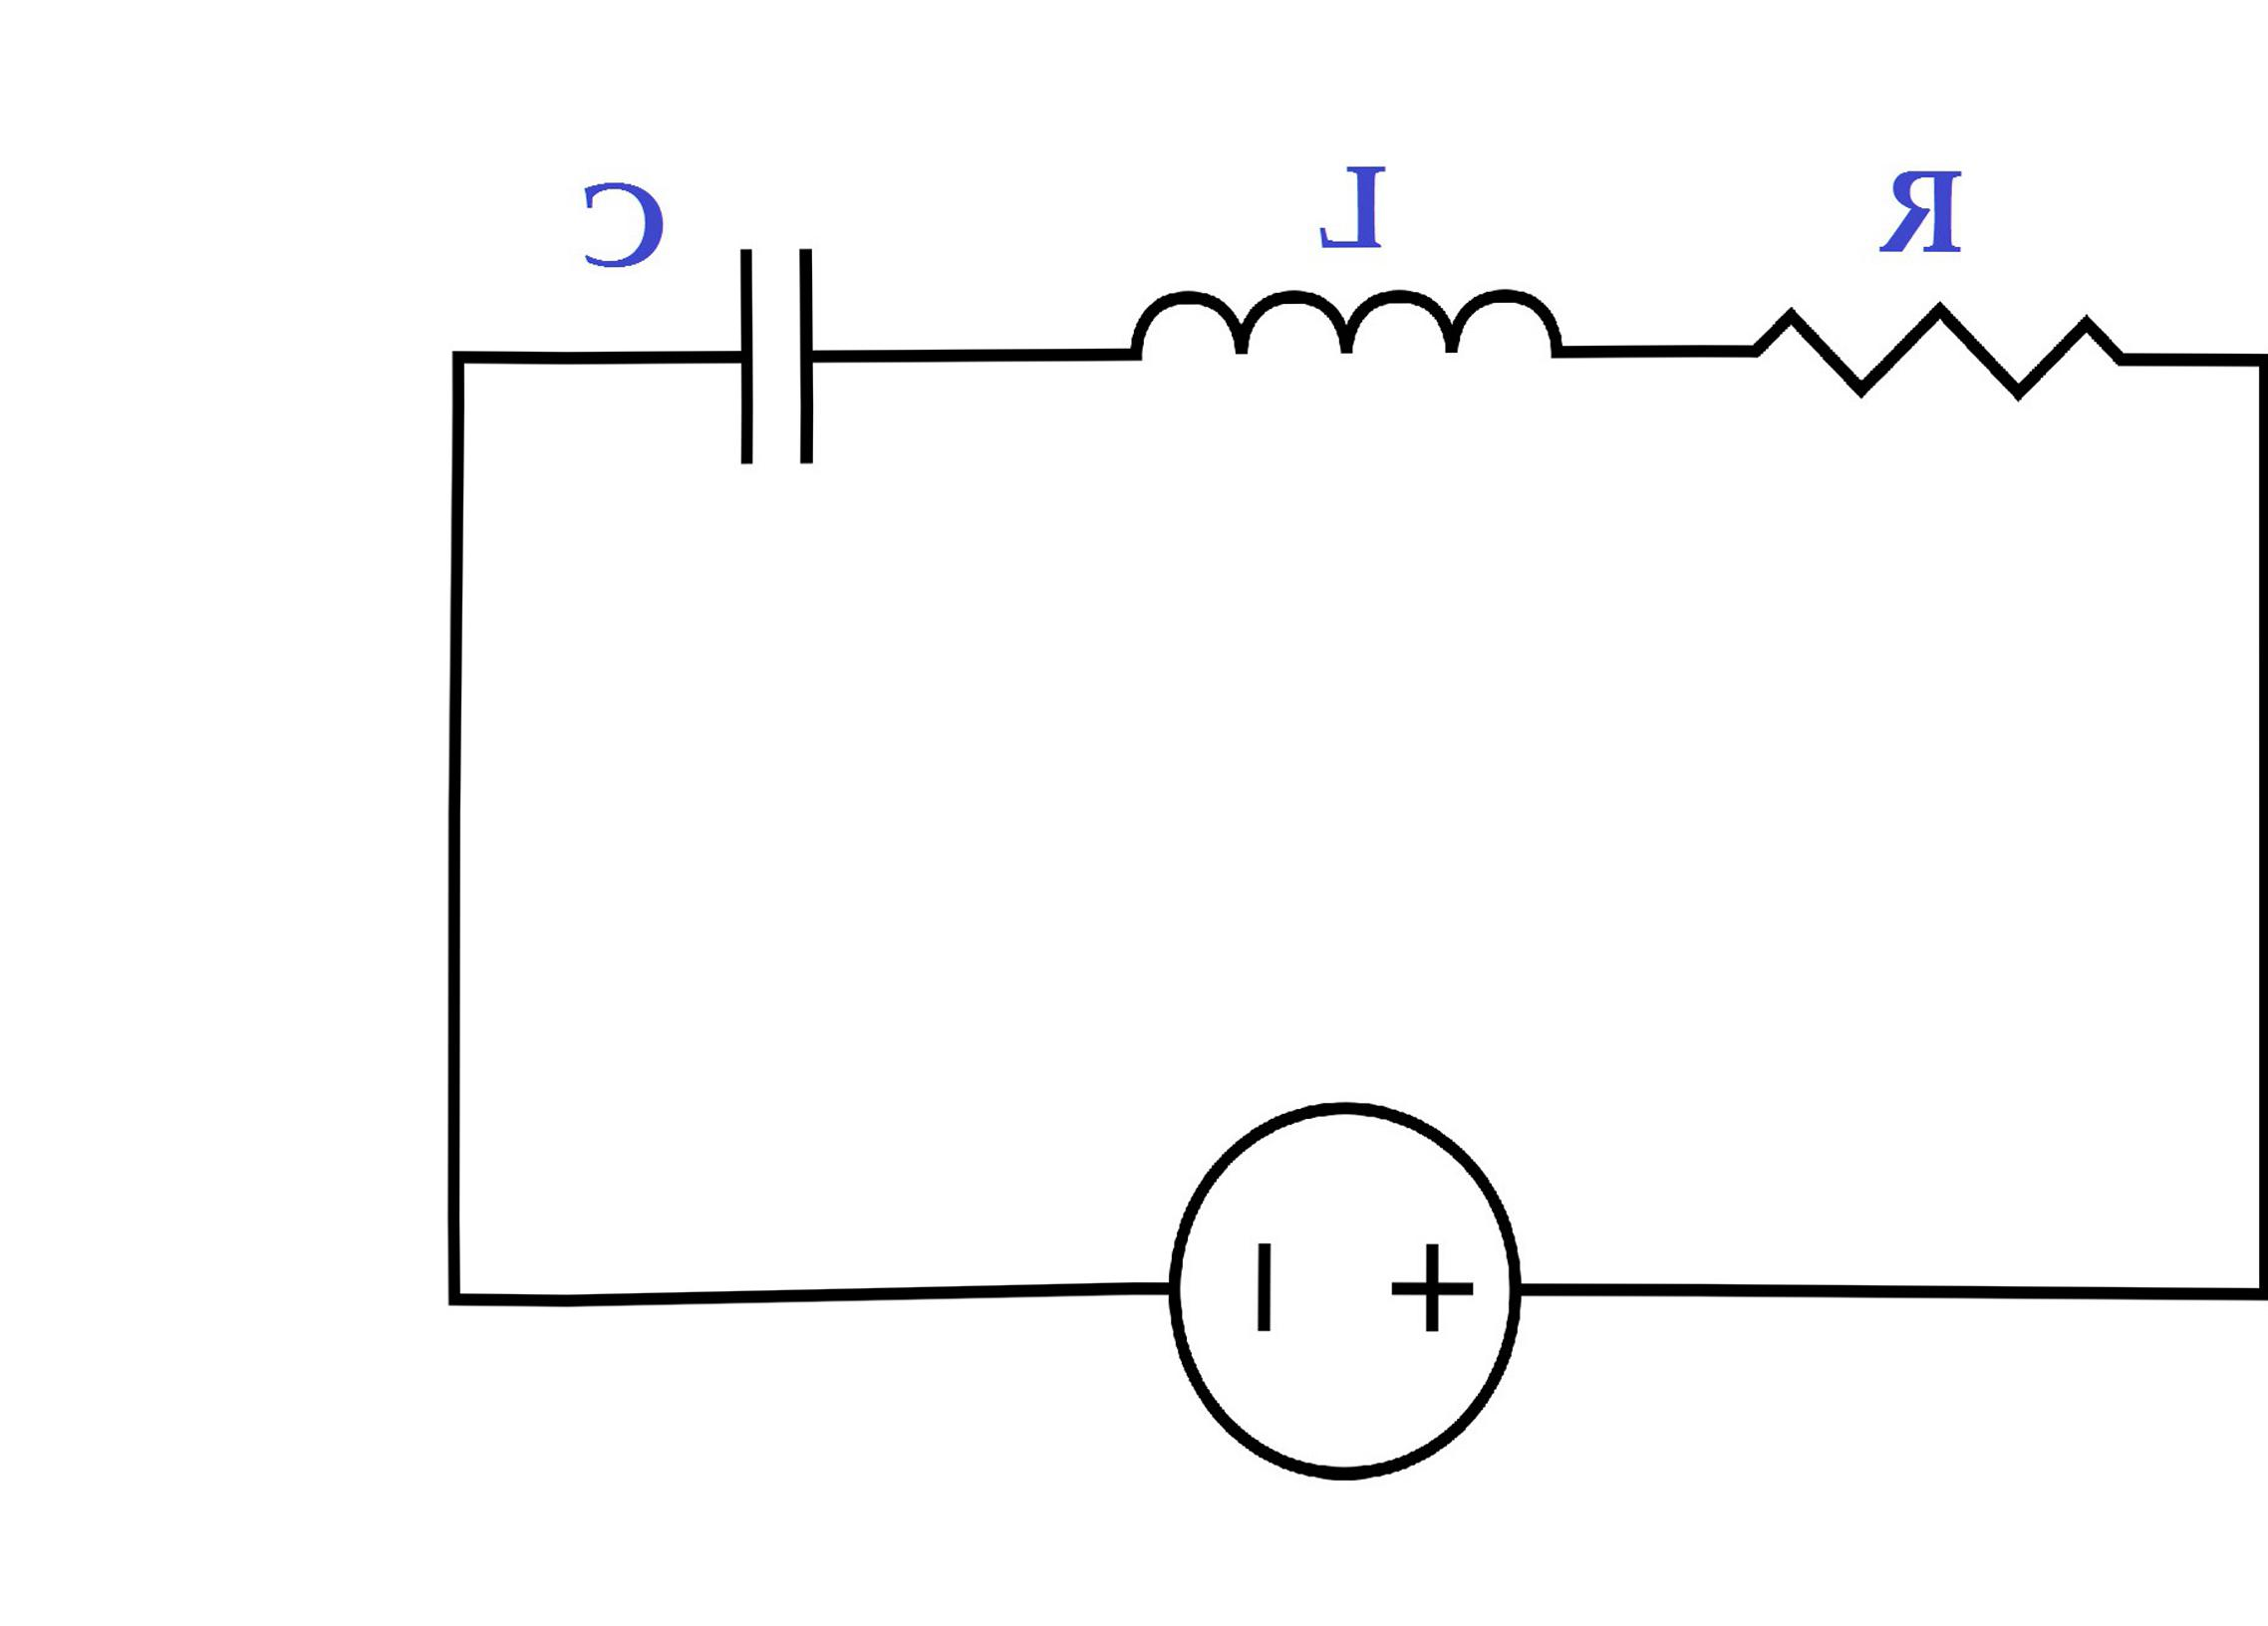Battery: (1084, 1035, 1628, 1519)
